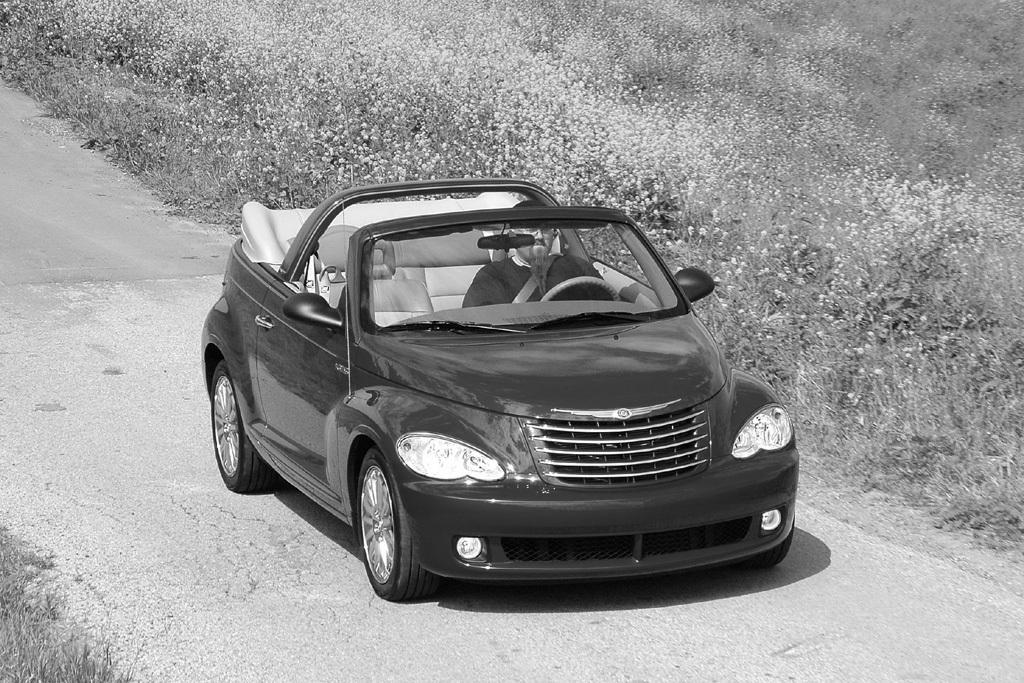car: (199, 175, 804, 605)
